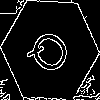Q: (25, 25, 80, 83)
